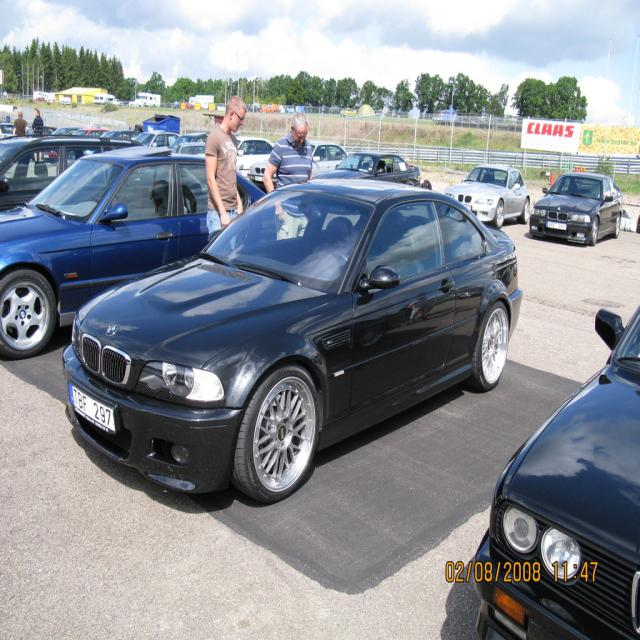car: (64, 159, 520, 512), (532, 172, 621, 242)
